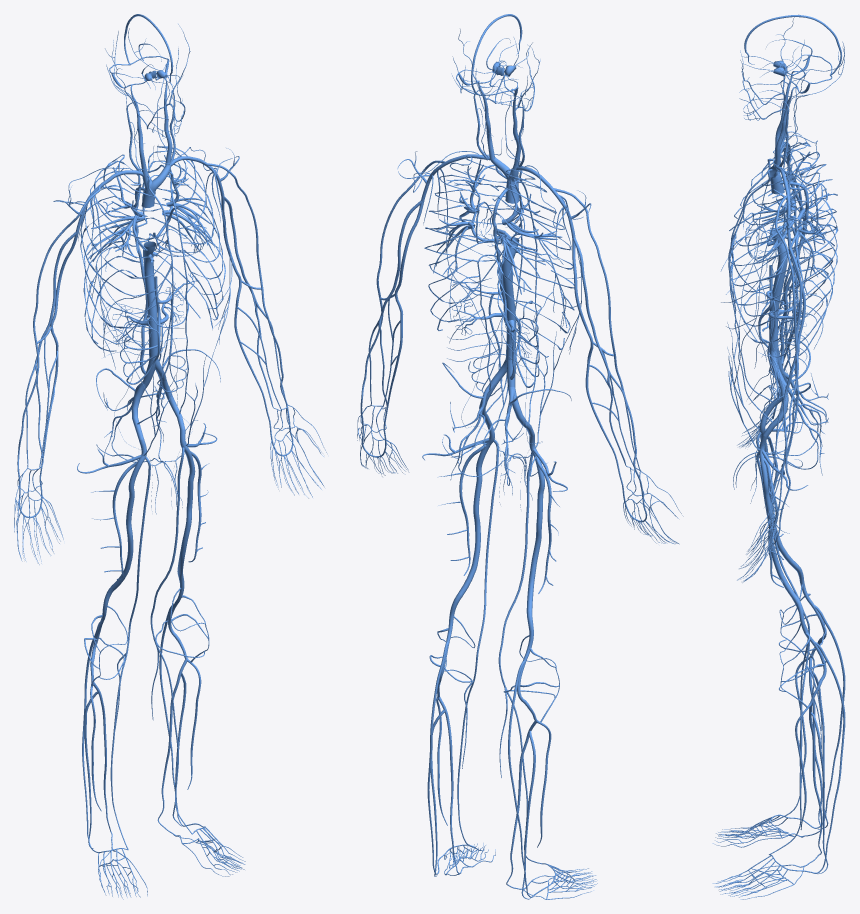
File: veins.glb
3 views of the same model, side by side, from view 1: azimuth 30°, elevation 25°; view 2: azimuth 150°, elevation 25°; view 3: azimuth 270°, elevation 25° (orthographic). The views are drawn at different scales.
Visible parts, largest first — view 1: Right superior intercostal vein.001, Left superior intercostal vein.001, Great saphenous vein.l.001, Great saphenous vein.r.001, Femoral vein.r.001, Femoral vein.l.001, Cephalic vein.r.001, Cephalic vein.l.001, Basilic vein.l.001, Basilic vein.r.001; view 2: Right superior intercostal vein.001, Left superior intercostal vein.001, Great saphenous vein.l.001, Great saphenous vein.r.001, Femoral vein.l.001, Femoral vein.r.001, Cephalic vein.r.001, Basilic vein.r.001, Cephalic vein.l.001, Basilic vein.l.001, Small saphenous vein.r.001, Small saphenous vein.l.001; view 3: Left superior intercostal vein.001, Right superior intercostal vein.001, Cephalic vein.l.001, Femoral vein.l.001, Great saphenous vein.l.001, Great saphenous vein.r.001, Small saphenous vein.l.001, Small saphenous vein.r.001, Basilic vein.l.001, Inferior vena cava (abdominal part).001, Femoral vein.r.001, Posterior tibial veins.l.001 (+23 smaller).
Part boxes in pixels (x1,y1,x2,y2): Right superior intercostal vein.001: [80, 154, 171, 351]; Left superior intercostal vein.001: [144, 146, 225, 329]; Great saphenous vein.l.001: [150, 447, 192, 834]; Great saphenous vein.r.001: [110, 456, 150, 849]; Femoral vein.r.001: [111, 439, 146, 589]; Femoral vein.l.001: [177, 429, 195, 573]; Cephalic vein.r.001: [17, 186, 100, 489]; Cephalic vein.l.001: [202, 161, 290, 423]; Basilic vein.l.001: [221, 197, 270, 421]; Basilic vein.r.001: [40, 232, 78, 477]; Right superior intercostal vein.001: [492, 169, 574, 357]; Left superior intercostal vein.001: [424, 155, 518, 330]; Great saphenous vein.l.001: [457, 439, 499, 847]; Great saphenous vein.r.001: [498, 452, 541, 864]; Femoral vein.l.001: [458, 424, 494, 596]; Femoral vein.r.001: [526, 434, 544, 611]; Cephalic vein.r.001: [554, 188, 643, 497]; Basilic vein.r.001: [572, 238, 623, 484]; Cephalic vein.l.001: [360, 160, 444, 429]; Basilic vein.l.001: [383, 201, 424, 426]; Small saphenous vein.r.001: [508, 660, 543, 897]; Small saphenous vein.l.001: [427, 641, 448, 874]; Left superior intercostal vein.001: [729, 162, 838, 357]; Right superior intercostal vein.001: [729, 142, 837, 306]; Cephalic vein.l.001: [775, 195, 797, 519]; Femoral vein.l.001: [759, 435, 798, 601]; Great saphenous vein.l.001: [756, 451, 821, 854]; Great saphenous vein.r.001: [756, 432, 821, 823]; Small saphenous vein.l.001: [804, 641, 845, 873]; Small saphenous vein.r.001: [804, 605, 845, 828]; Basilic vein.l.001: [779, 248, 805, 501]; Inferior vena cava (abdominal part).001: [769, 278, 784, 350]; Femoral vein.r.001: [759, 414, 798, 568]; Posterior tibial veins.l.001: [805, 704, 822, 866].
Bounding box in the file's own units: 0.6628 × 1.7 × 0.2403.
